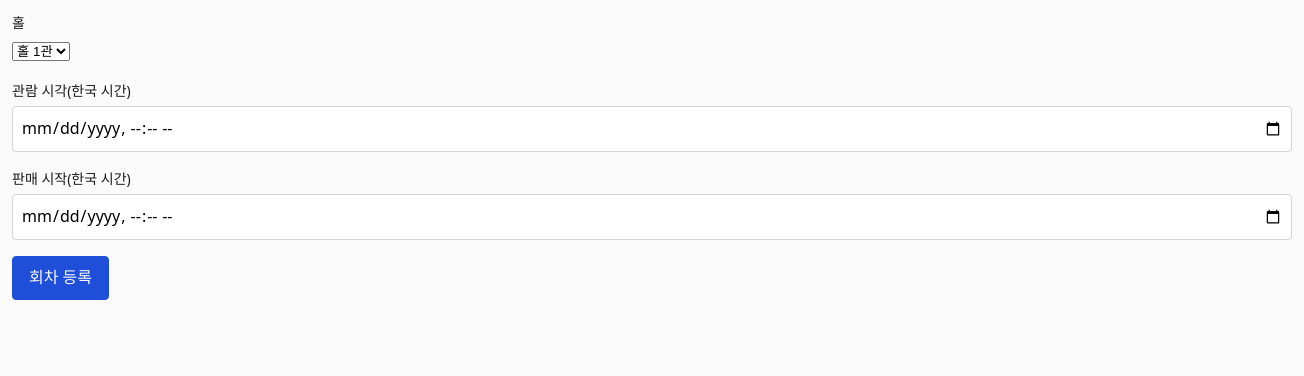
Test: 회차 등록 › 서버가 거절해도 친 값이 남는다(`39-4`)
Step 1. Select "홀 2관" in the dropdown labelled "홀" → (41, 52), box [12,42,70,61]
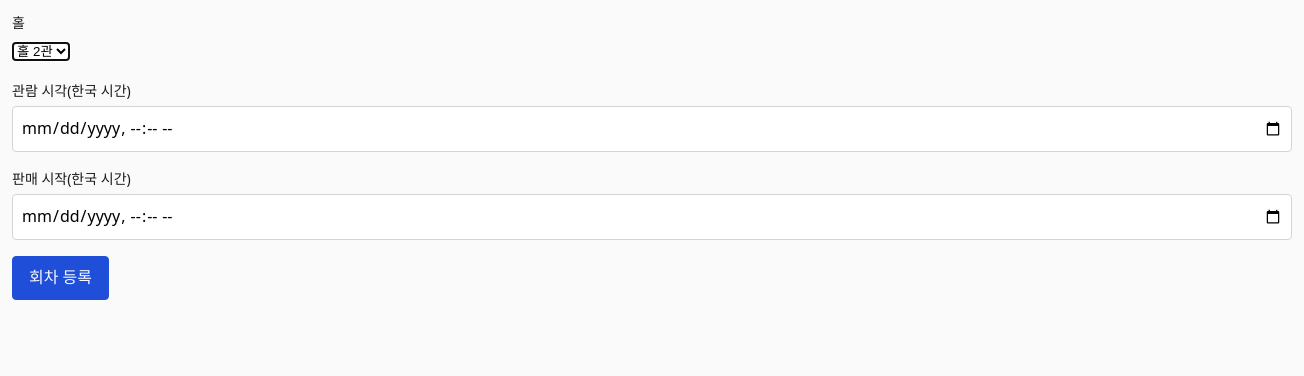
Step 2. Type "2026-10-01T19:30" into the field labelled "관람 시각(한국 시간)" → (652, 129), box [12,106,1292,152]
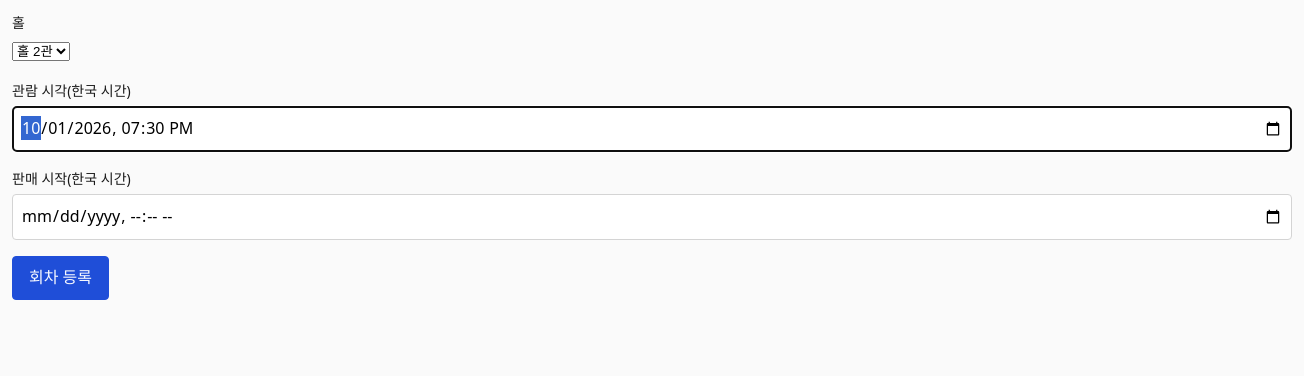
Step 3. Type "2026-09-20T10:00" into the field labelled "판매 시작(한국 시간)" → (652, 217), box [12,194,1292,240]
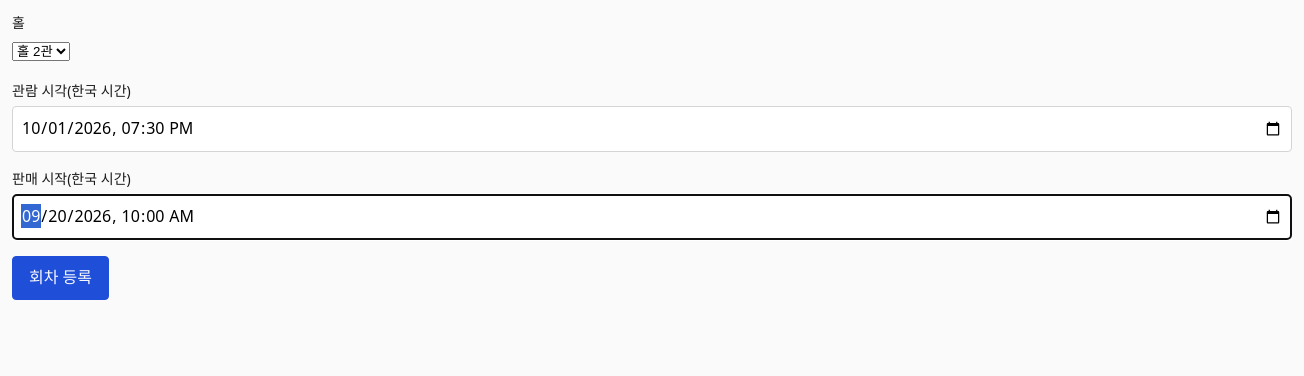
Step 4. Click the button "회차 등록" → (60, 278), box [12,256,109,300]
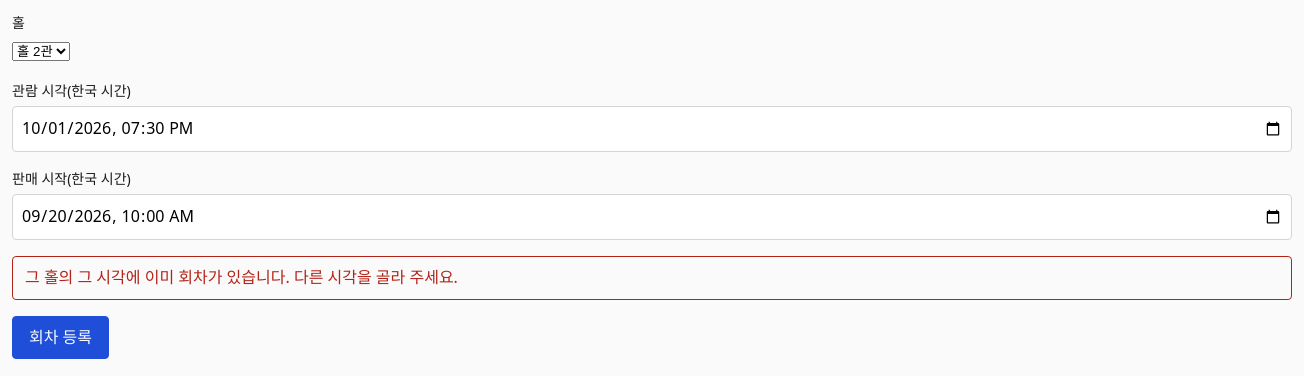
Expected: the dropdown labelled "홀" shows "홀 2관", [12,42,70,61]
Expected: the message "그 홀의 그 시각에 이미 회차가 있습니다. 다른 시각을 골라 주세요." is shown, [12,256,1292,300]
